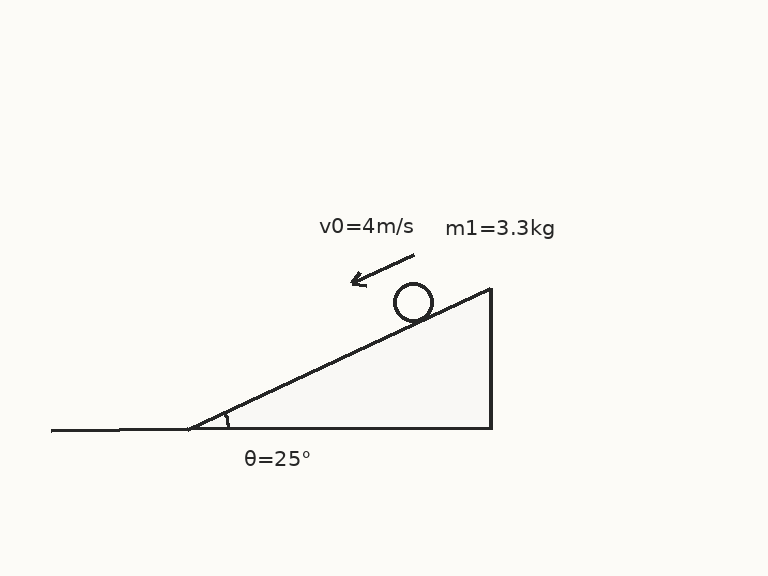ball: (391, 280, 435, 324)
ramp: (186, 286, 493, 431)
